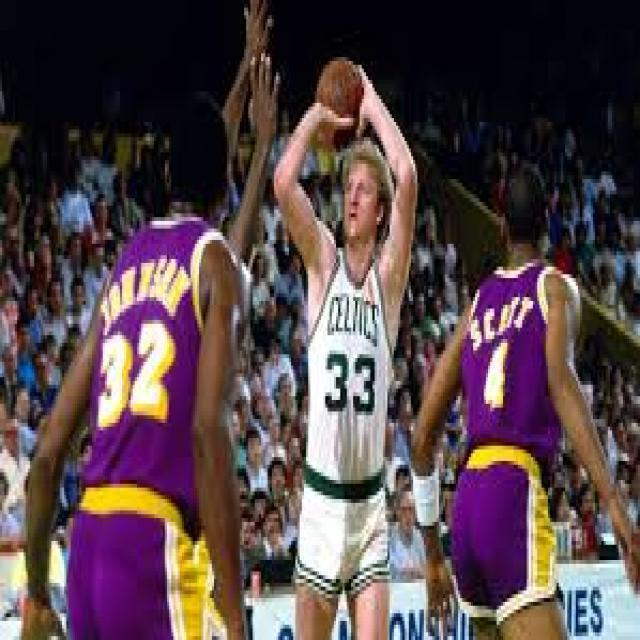rim: (319, 61, 366, 145)
